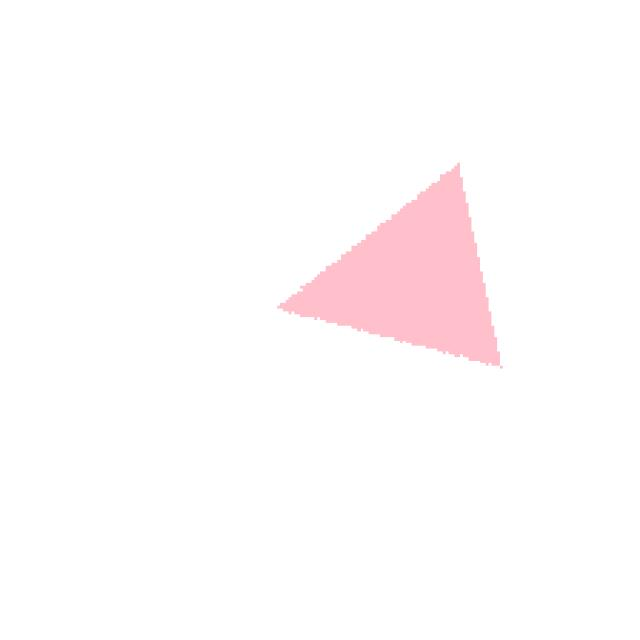Triangle: (274, 144, 553, 393)
